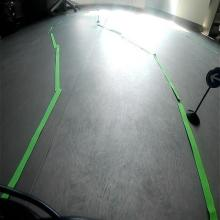left: (206, 66, 220, 89)
